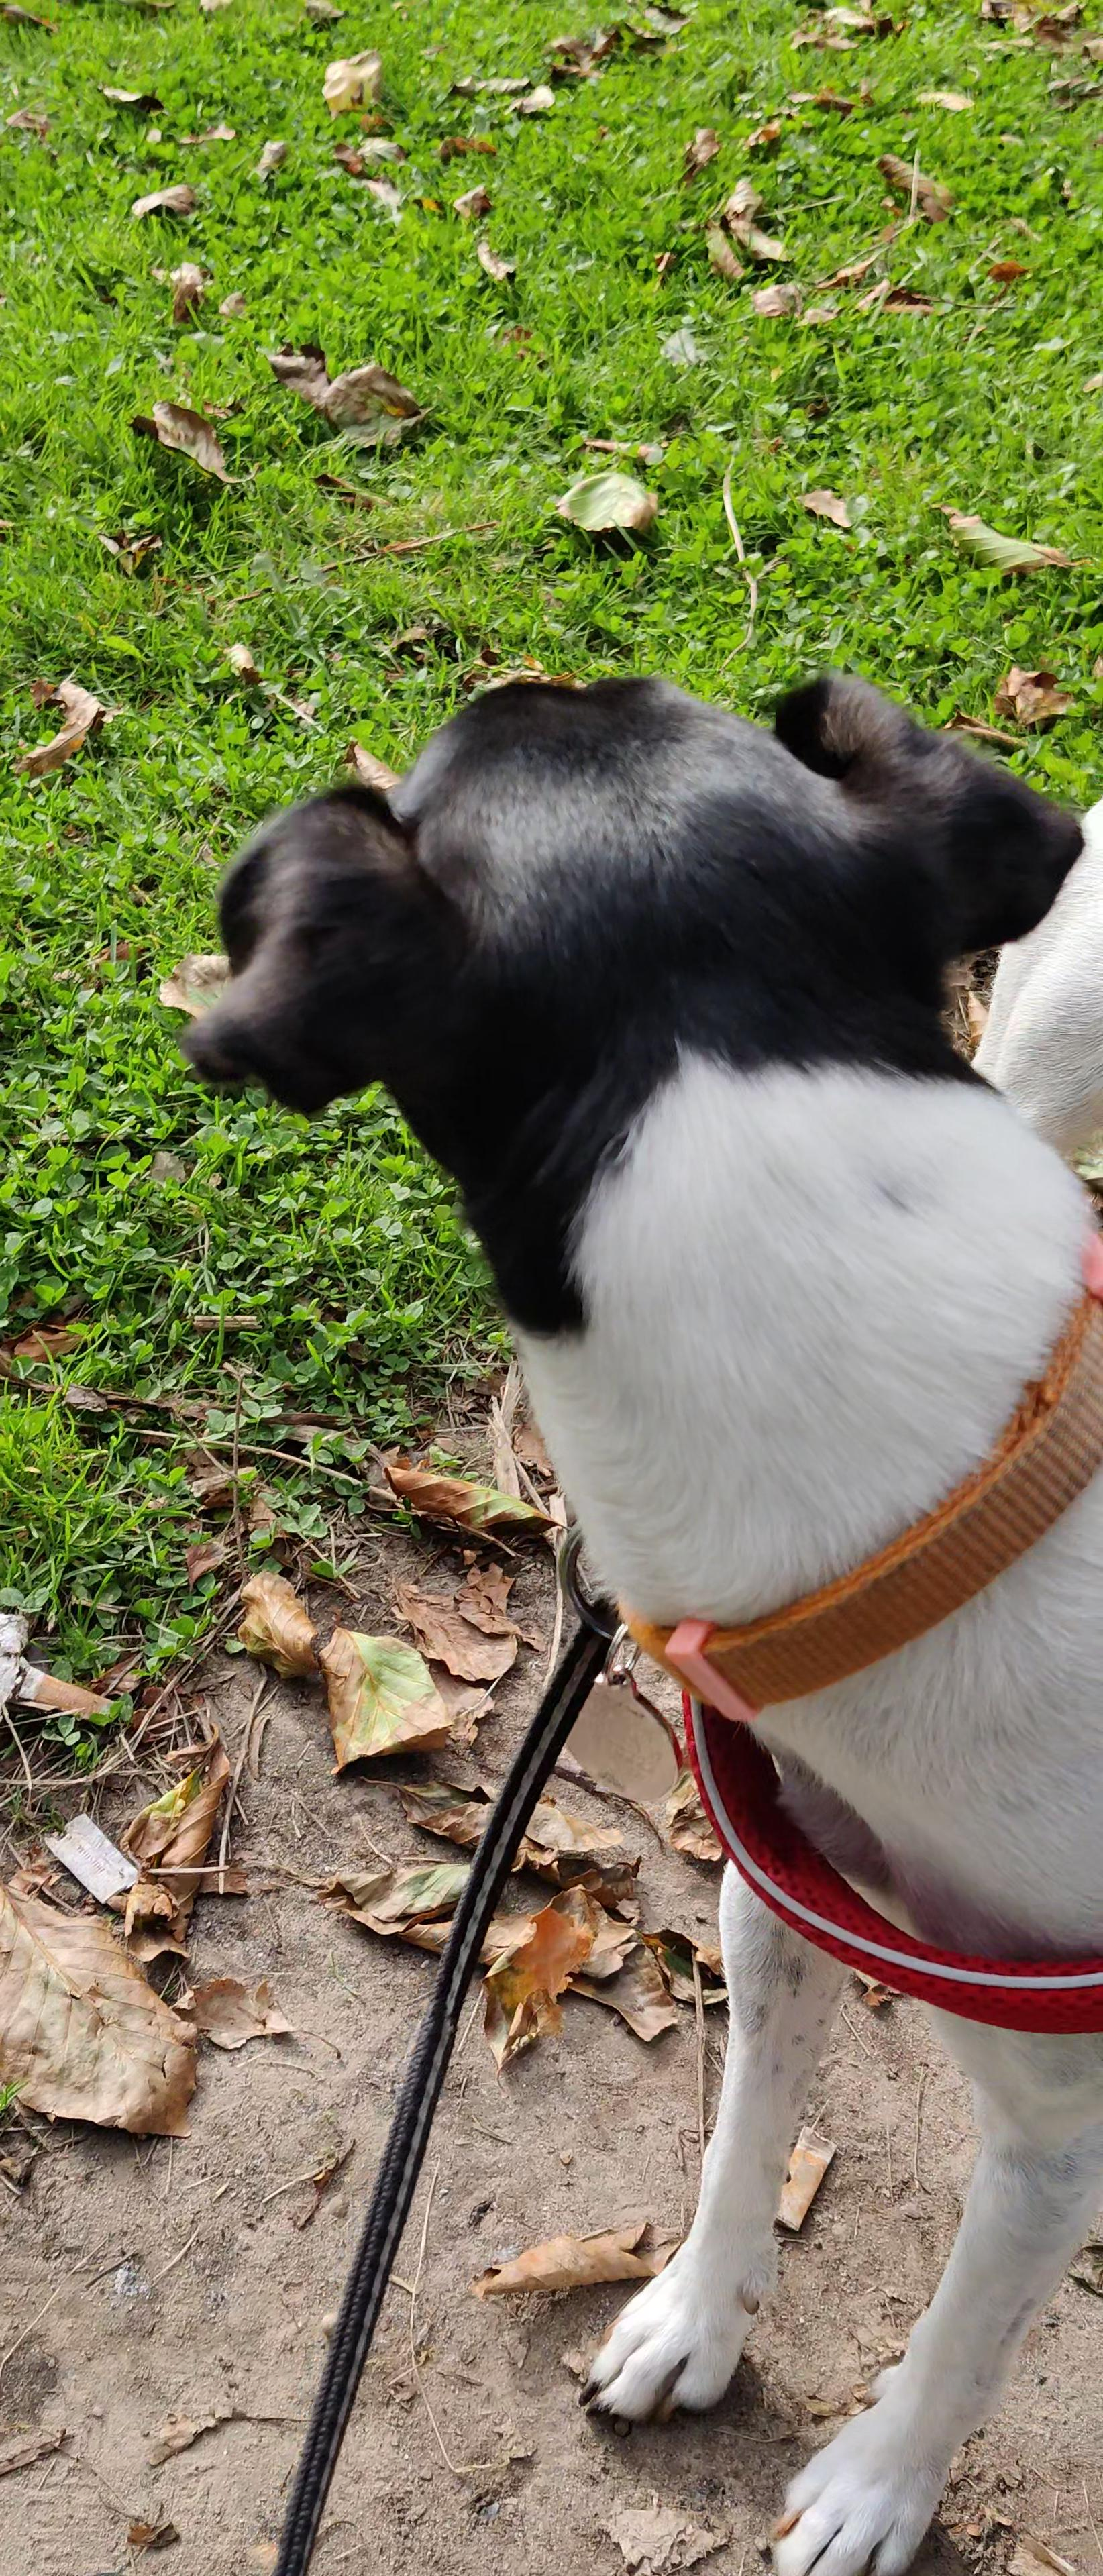Dog: (153, 601, 1103, 2576)
